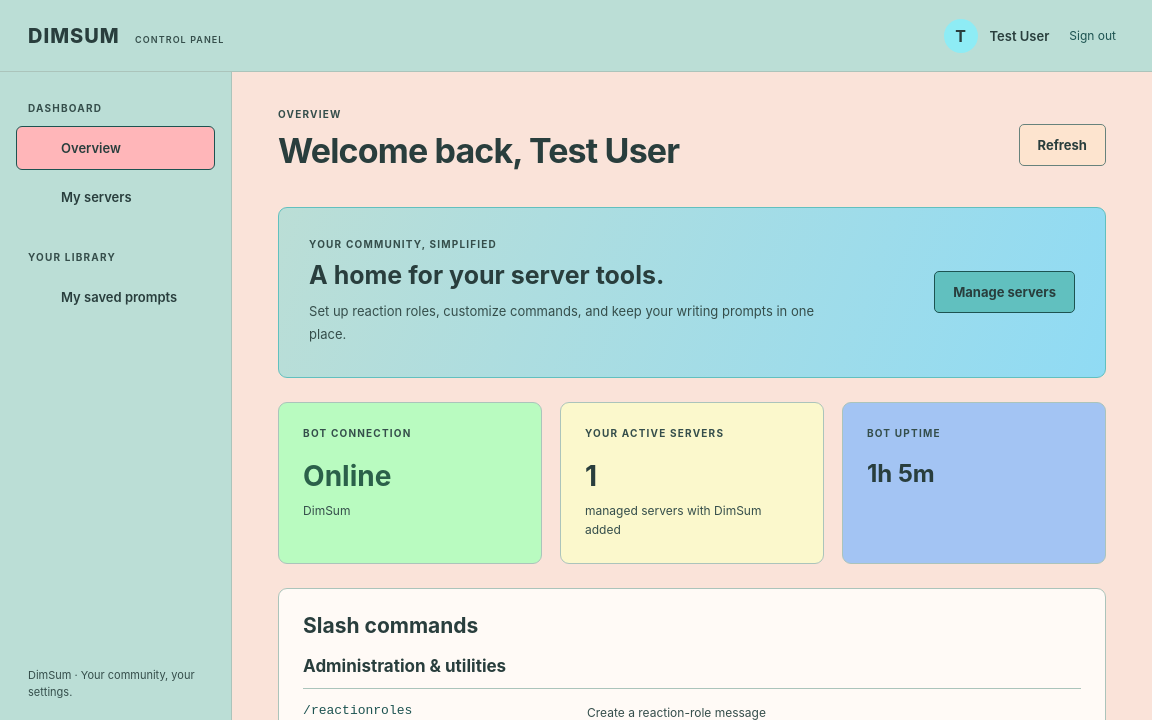
Test: Overview links to managed servers and the full server card opens settings
Check: the text "Online" is shown, box [303,459,391,493]
Check: the heading "Your servers" is not shown
Click the link "My servers" at (96, 197), box [61,189,132,205]
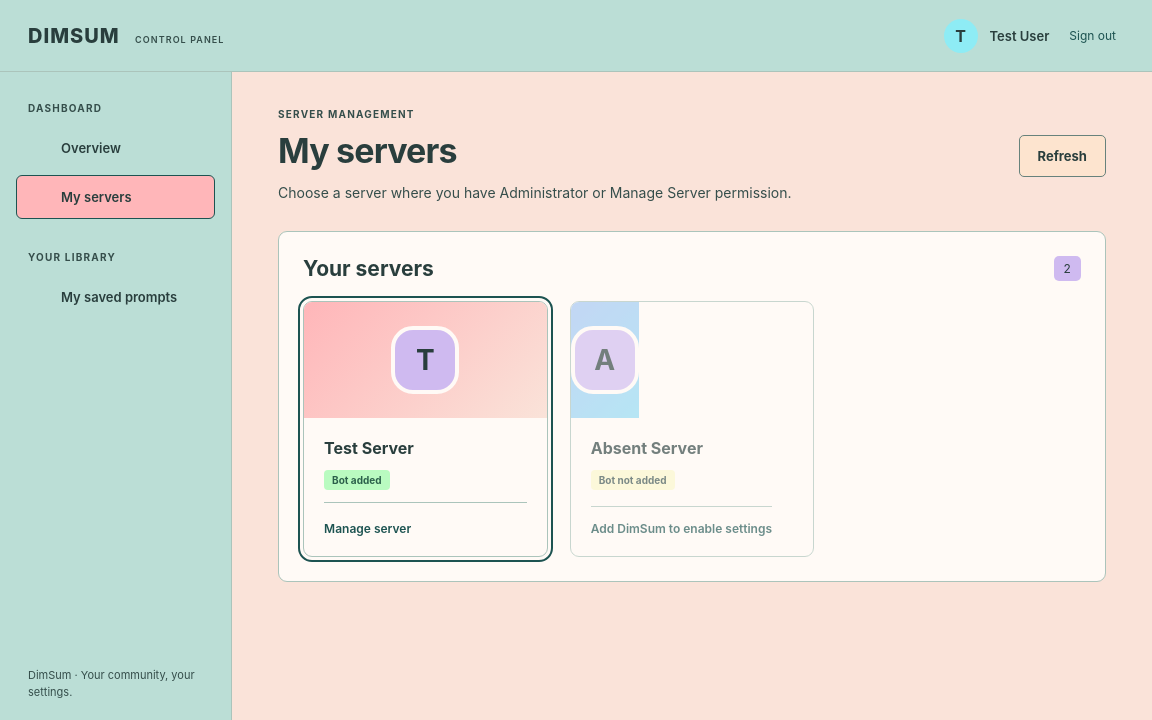
Check: the heading "Your servers" is shown, box [303,256,434,281]
Check: the button with aria-label "Absent Server: bot not added" is disabled, box [570,301,814,557]
Check: the text "Manage server" is shown, box [324,502,527,536]
Press Enter
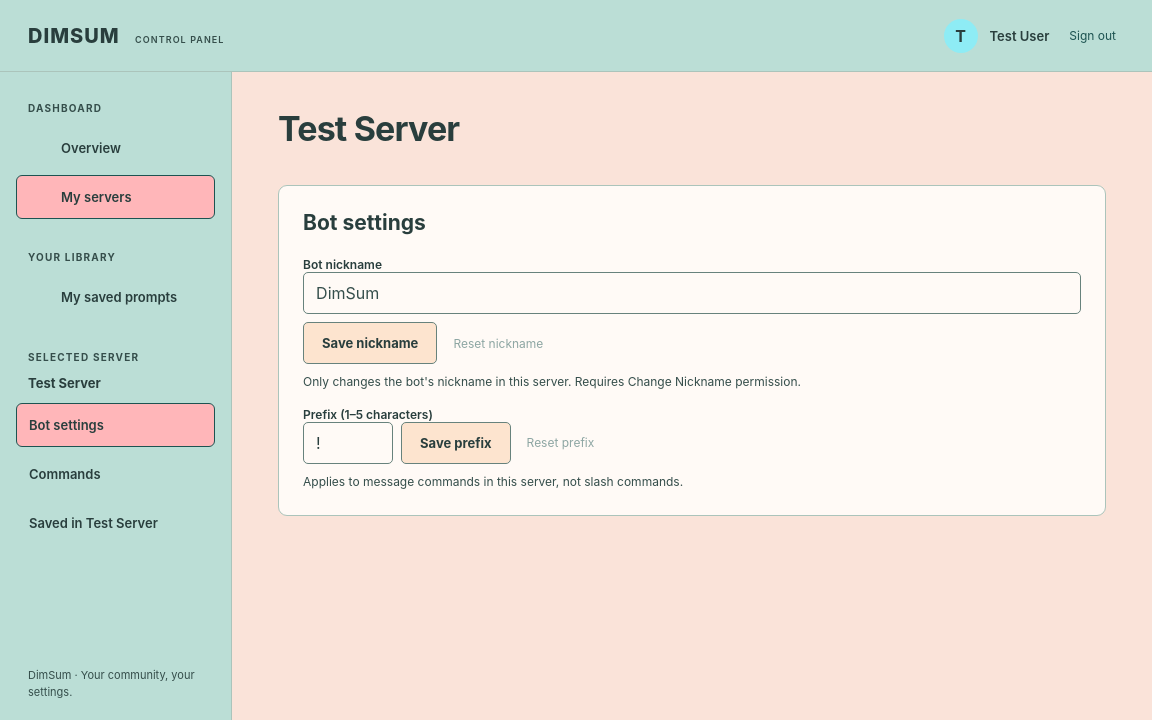
Check: the field labelled "Prefix (1–5 characters)" holds "!", box [303,422,393,464]
Check: the heading "Your servers" is gone
Click the link "Overview" at (91, 148), box [61,140,121,156]
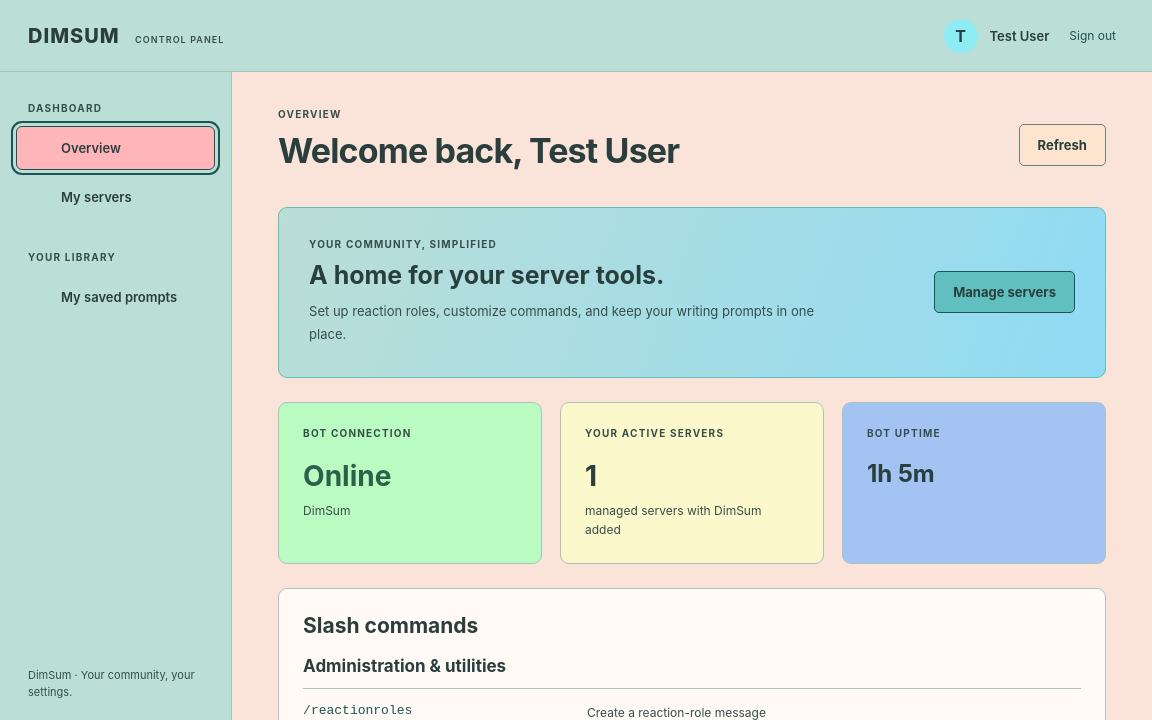
Check: the heading "Your servers" is not shown
Check: the text "Online" is shown, box [303,459,391,493]
